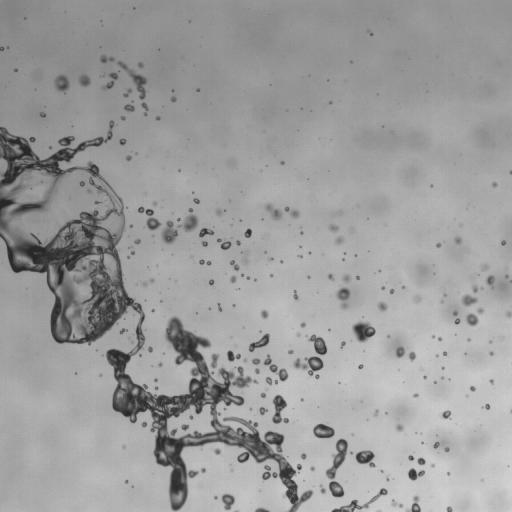droplet: (293, 334, 327, 378), (263, 354, 288, 384), (177, 208, 198, 232), (352, 321, 375, 342), (161, 220, 177, 244), (354, 450, 375, 467), (313, 423, 334, 438), (336, 287, 350, 309), (264, 203, 281, 220), (54, 75, 69, 92), (405, 496, 421, 511), (221, 494, 234, 511), (461, 294, 477, 306), (408, 468, 424, 480), (466, 313, 478, 326), (217, 238, 231, 249), (78, 74, 90, 86), (227, 350, 240, 361), (199, 228, 213, 237), (395, 346, 404, 357), (486, 275, 494, 287), (377, 302, 387, 311), (328, 224, 338, 232), (335, 236, 343, 245), (441, 410, 450, 418), (124, 104, 134, 111), (260, 310, 268, 318), (417, 457, 425, 465), (244, 228, 251, 237), (408, 351, 415, 360), (472, 285, 480, 292), (259, 407, 267, 414), (395, 424, 403, 431), (319, 485, 326, 493), (293, 290, 298, 300), (215, 208, 222, 215), (454, 236, 461, 243), (343, 275, 350, 282), (414, 295, 421, 302), (252, 358, 260, 364), (482, 264, 488, 271), (230, 275, 236, 282), (181, 424, 188, 430), (213, 448, 220, 454), (119, 139, 125, 145), (477, 308, 483, 314), (141, 421, 147, 427), (433, 442, 439, 448), (328, 273, 333, 280), (119, 328, 126, 333), (171, 96, 176, 102), (39, 112, 45, 117), (193, 198, 199, 203), (134, 239, 140, 244), (242, 257, 247, 263), (209, 279, 214, 285), (506, 311, 511, 317), (484, 404, 490, 409), (301, 453, 306, 459), (408, 455, 414, 460), (446, 506, 452, 511), (138, 62, 143, 67), (126, 155, 131, 160), (79, 181, 84, 186), (492, 182, 497, 187), (87, 188, 92, 193), (202, 241, 207, 246), (300, 322, 305, 327), (358, 364, 363, 369), (254, 368, 259, 373), (470, 386, 475, 391), (444, 447, 449, 452), (94, 200, 100, 204), (341, 341, 345, 347), (374, 409, 378, 415), (501, 240, 505, 245), (149, 278, 154, 282), (389, 289, 394, 293), (148, 347, 152, 352), (288, 350, 293, 354), (157, 363, 162, 367), (261, 392, 265, 397), (413, 393, 418, 397), (310, 466, 314, 471), (218, 304, 221, 310), (121, 116, 125, 120), (156, 116, 160, 120), (152, 202, 156, 206), (236, 241, 240, 245), (436, 243, 440, 247), (489, 351, 493, 355), (201, 468, 205, 472), (0, 47, 4, 50), (143, 282, 146, 286), (296, 333, 300, 336), (438, 337, 441, 341), (443, 351, 446, 355), (490, 379, 493, 383), (189, 415, 192, 419), (14, 68, 17, 71), (39, 180, 42, 183), (299, 255, 302, 258), (269, 257, 272, 260), (381, 286, 384, 289), (155, 387, 158, 390), (509, 170, 511, 174), (376, 509, 380, 511), (281, 161, 283, 164), (35, 220, 37, 223), (505, 275, 508, 277), (247, 276, 249, 279), (307, 276, 310, 278), (356, 276, 359, 278), (402, 286, 405, 288), (443, 294, 446, 296), (243, 359, 246, 361), (99, 374, 102, 376), (423, 376, 426, 378), (154, 379, 157, 381), (122, 446, 125, 448), (431, 464, 433, 467), (386, 477, 388, 480), (49, 146, 51, 148), (231, 163, 233, 165), (242, 274, 244, 276), (270, 274, 272, 276), (441, 376, 443, 378), (350, 451, 352, 453), (125, 480, 127, 482)
ligament: (0, 122, 313, 511), (325, 438, 347, 497), (331, 488, 387, 511), (117, 61, 146, 99), (138, 206, 160, 230), (272, 394, 288, 423), (249, 333, 269, 351), (102, 72, 117, 89), (284, 206, 299, 218), (100, 55, 114, 63), (141, 102, 148, 115), (453, 311, 460, 324), (230, 260, 239, 270), (391, 500, 402, 507), (199, 259, 211, 265), (123, 89, 131, 97), (254, 507, 269, 511), (128, 251, 134, 257), (234, 510, 238, 511), (510, 280, 511, 283)
